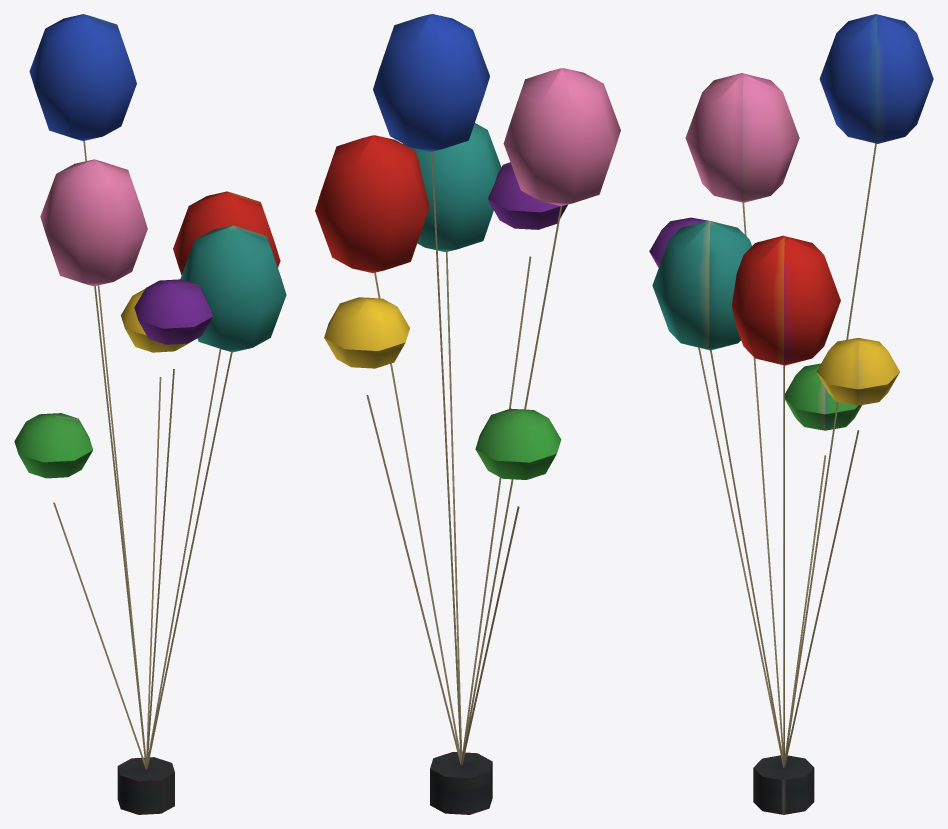
Rendered from balloon_bunch.obj.
3 views of the same model, side by side, from view 1: azimuth 30°, elevation 25°; view 2: azimuth 150°, elevation 25°; view 3: azimuth 270°, elevation 25° (orthographic). The views are drawn at different scales.
Visible parts, largest first — view 1: balloon_bunch; view 2: balloon_bunch; view 3: balloon_bunch.
Boxes of the visible parts, left/top/right/bottom form: balloon_bunch: left=14, top=14, right=286, bottom=814; balloon_bunch: left=315, top=14, right=620, bottom=814; balloon_bunch: left=649, top=14, right=933, bottom=814.
Bounding box in the file's own units: 0.7752 × 2.26 × 0.7475.
1 material, 1 textured.
